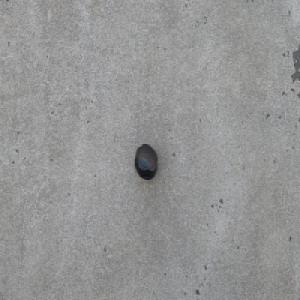FuelCap: (133, 142, 157, 180)
